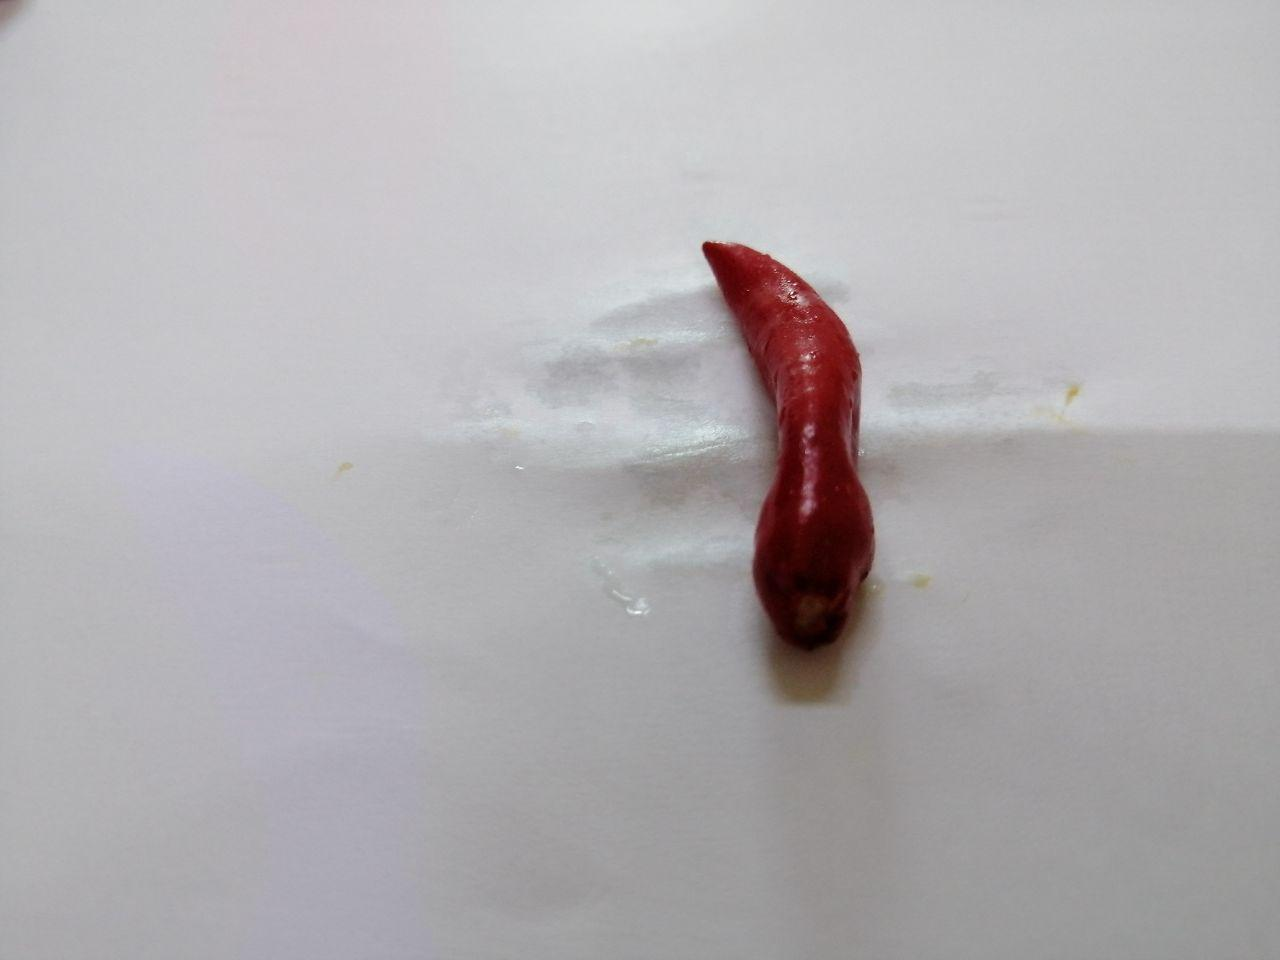lada merah: (658, 215, 906, 669)
